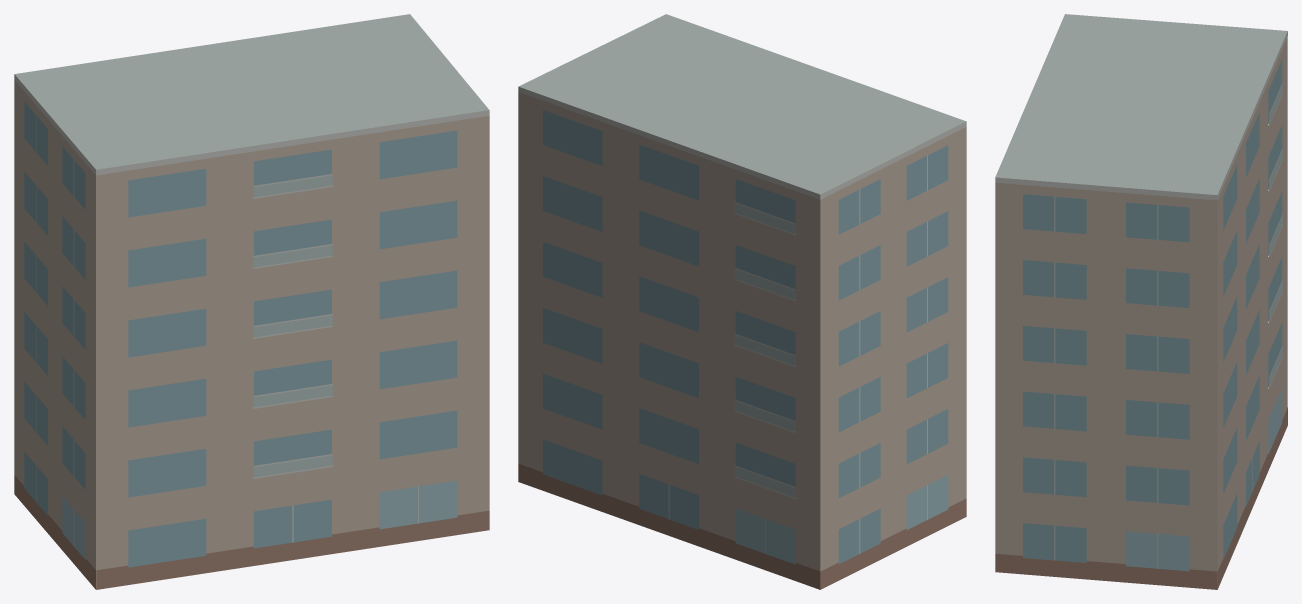
File: survey-upis-32635509.glb
3 views of the same model, side by side, from view 1: azimuth 30°, elevation 25°; view 2: azimuth 150°, elevation 25°; view 3: azimuth 270°, elevation 25° (orthographic). The views are drawn at different scales.
Parts seen in each view (by area): view 1: survey-upis-32635509.tmp; view 2: survey-upis-32635509.tmp; view 3: survey-upis-32635509.tmp.
Part boxes in pixels (x1,y1,x2,y2): survey-upis-32635509.tmp: [14, 14, 489, 589]; survey-upis-32635509.tmp: [518, 14, 966, 589]; survey-upis-32635509.tmp: [995, 14, 1287, 589].
Bounding box in the file's own units: 18.02 × 18.3 × 12.3.
